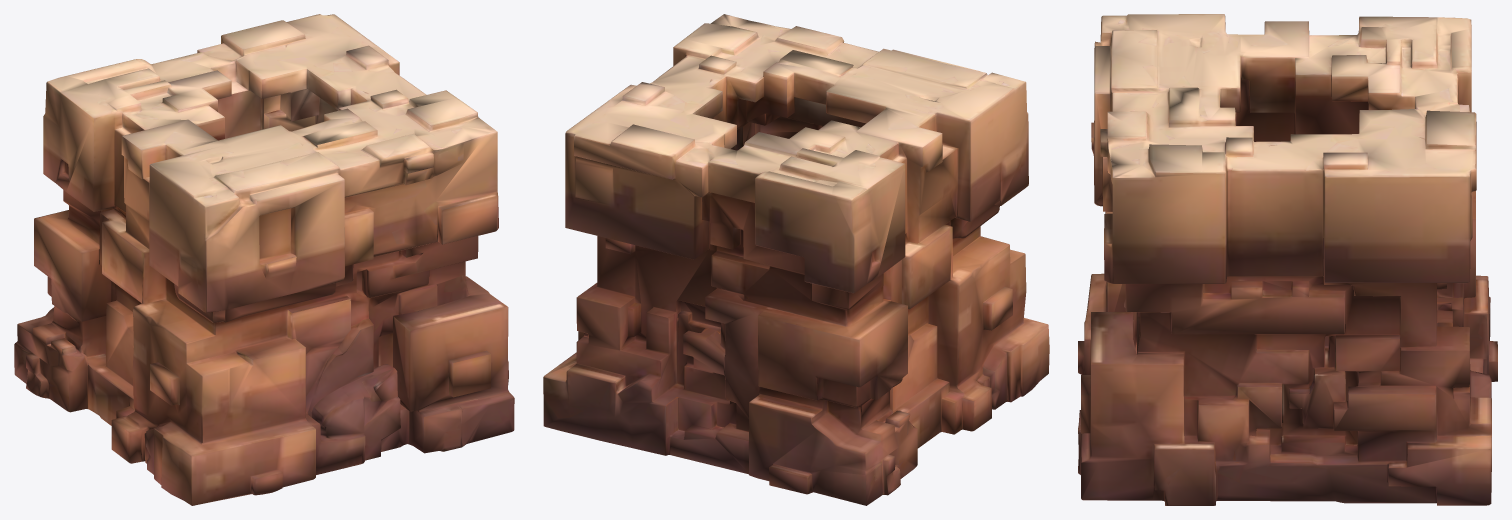
File: rock_a.glb
3 renders of one model, left to right at view 1: azimuth 30°, elevation 25°; view 2: azimuth 150°, elevation 25°; view 3: azimuth 270°, elevation 25°, orthographic. The views are drawn at different scales.
Parts seen in each view (by area): view 1: node_0; view 2: node_0; view 3: node_0.
Part boxes in pixels (<box>): node_0: <box>14,14,514,505</box>; node_0: <box>543,14,1049,505</box>; node_0: <box>1078,14,1497,505</box>.
Size of the model in its own units: 0.7388 by 0.6454 by 0.7381.
Materials: 1 (1 with a texture image).
